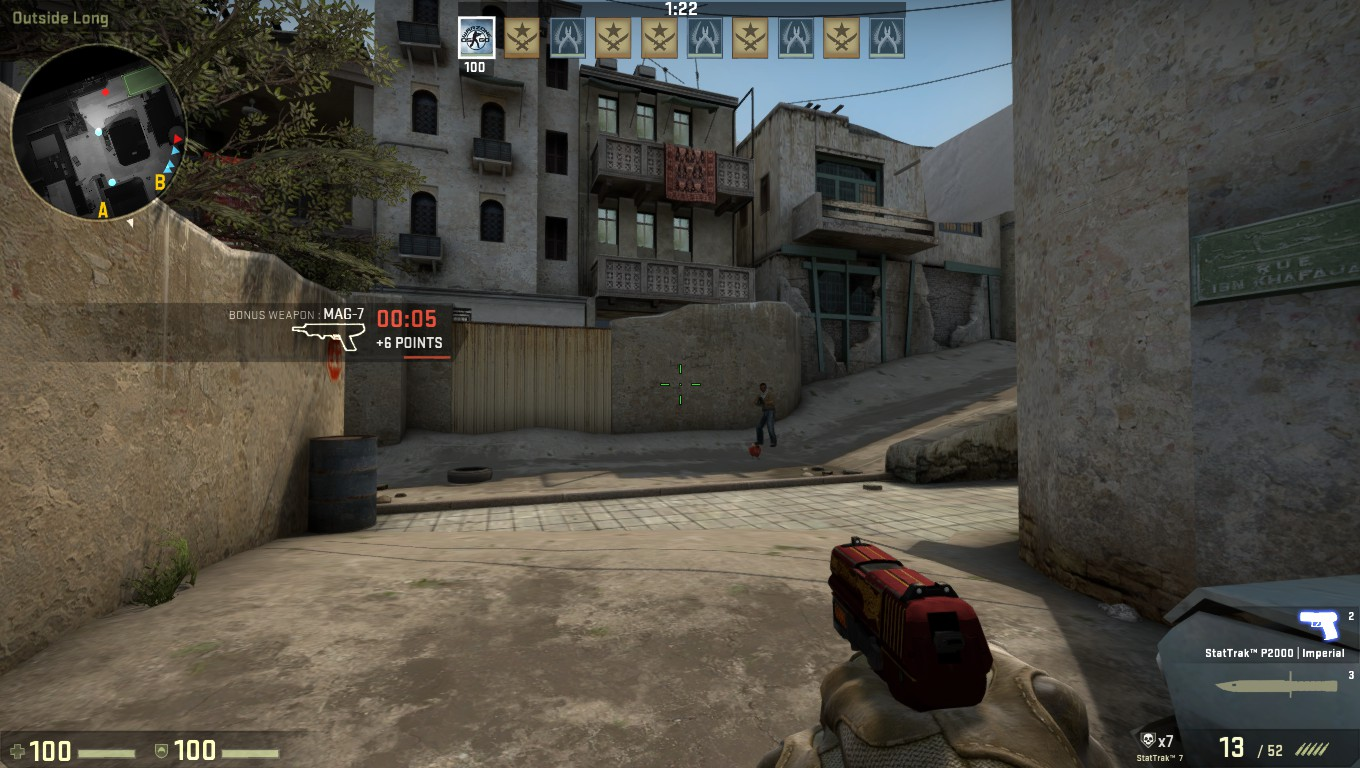t: (754, 380, 778, 446)
th: (756, 382, 769, 395)
